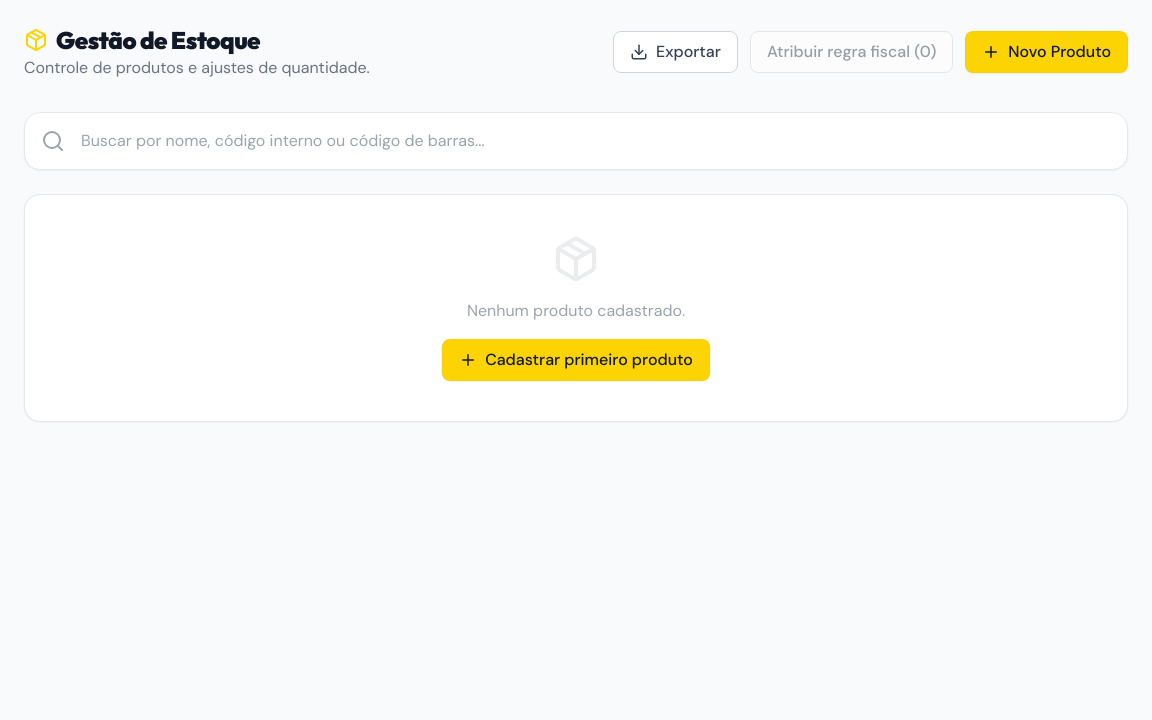
Inventory EAN lookup › fills only the commercial name and preserves the fiscal NCM field
Click the button "Novo Produto": (1047, 52) [965, 31, 1128, 73]
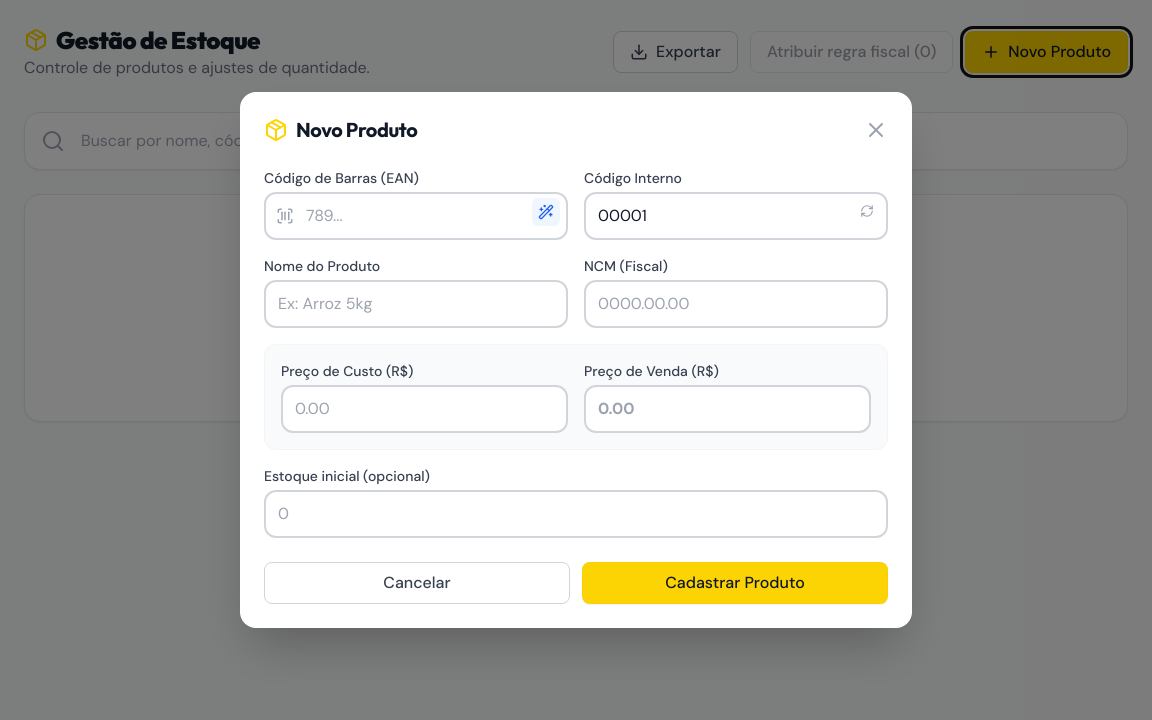
In the field with placeholder "789...": (416, 216) [264, 192, 568, 240], type "7891000088791"
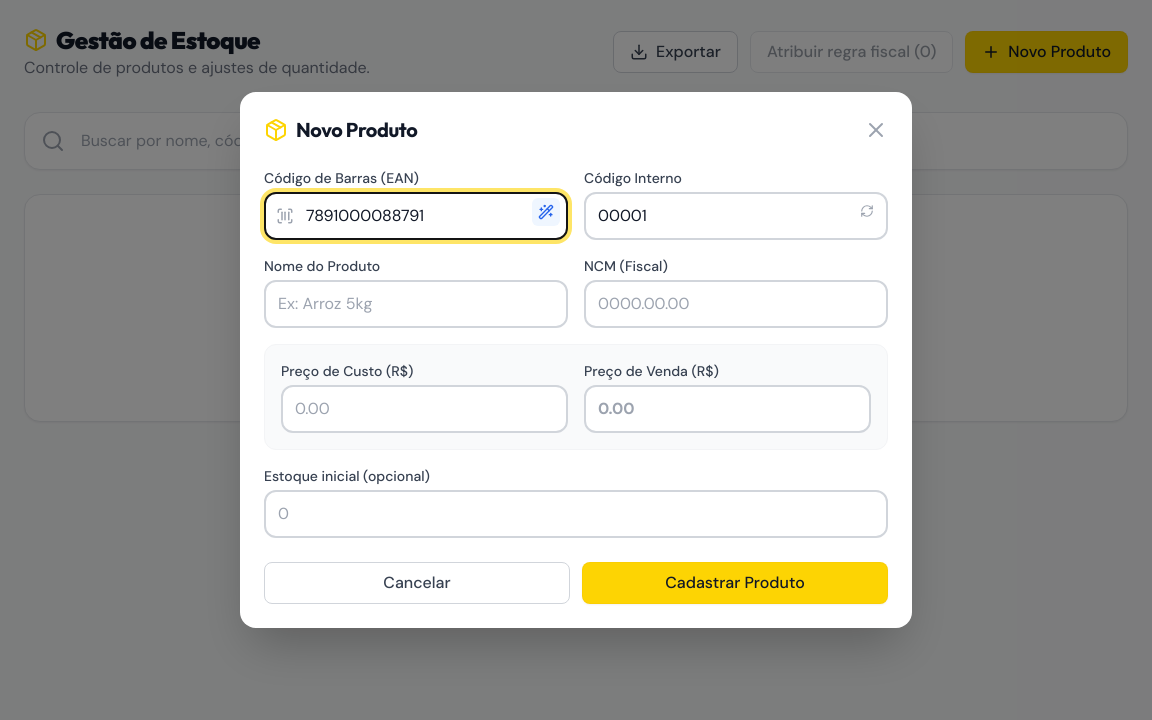
In the field with placeholder "0000.00.00": (736, 304) [584, 280, 888, 328], type "1905.31.00"
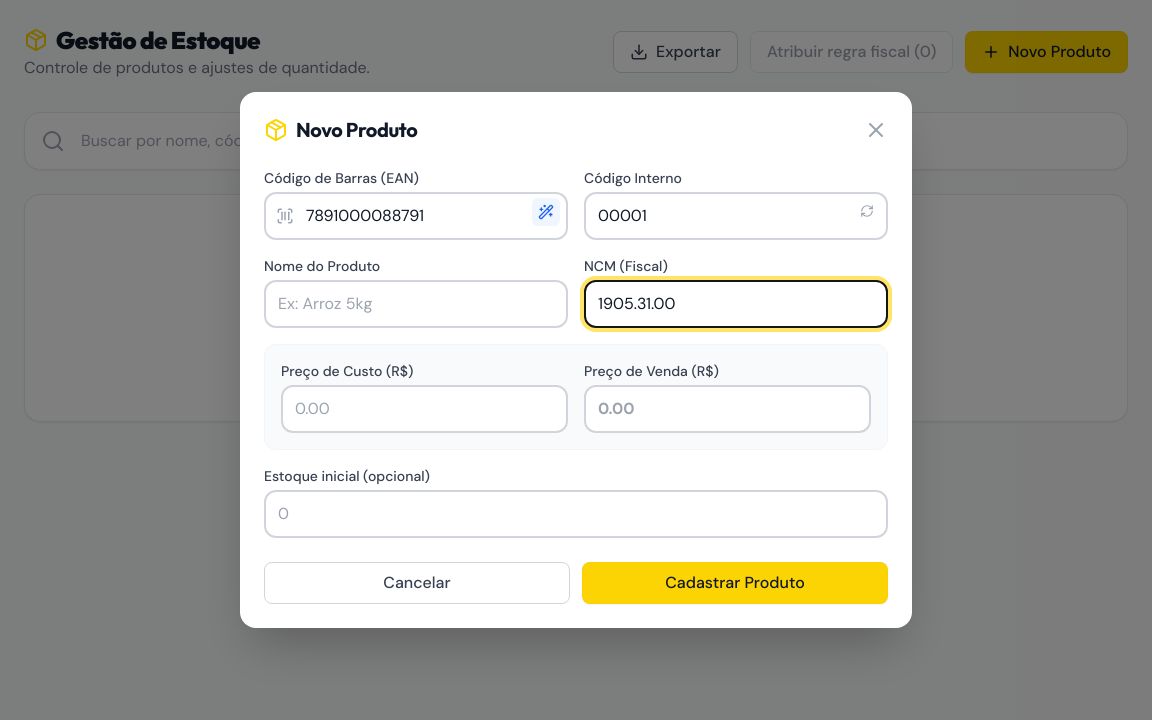
Click the button titled "Consultar Online": (546, 212) [532, 198, 560, 226]
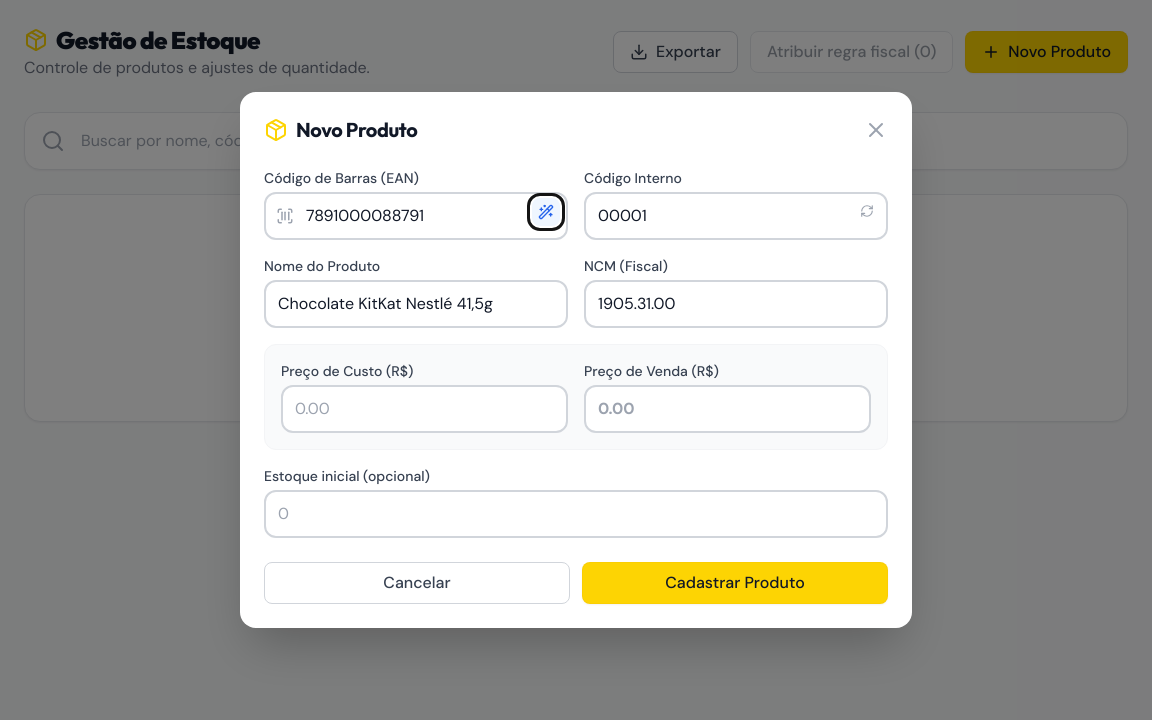
Now the field with placeholder "Ex: Arroz 5kg" below "Nome do Produto" holds "Chocolate KitKat Nestlé 41,5g", box [264, 280, 568, 328]
